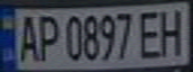0: (60, 11, 84, 62)
7: (115, 9, 139, 61)
8: (81, 11, 100, 62)
9: (100, 10, 118, 61)
A: (12, 11, 42, 62)
E: (136, 8, 166, 60)
H: (154, 4, 190, 56)
P: (33, 11, 60, 62)
